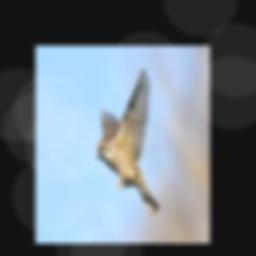Sparrow: (97, 68, 159, 218)
